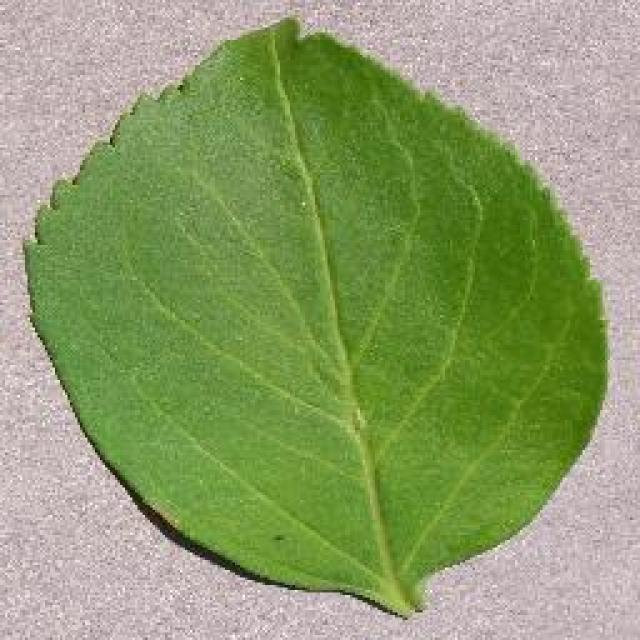Cher_including_sour_healthy: (58, 56, 592, 548)
